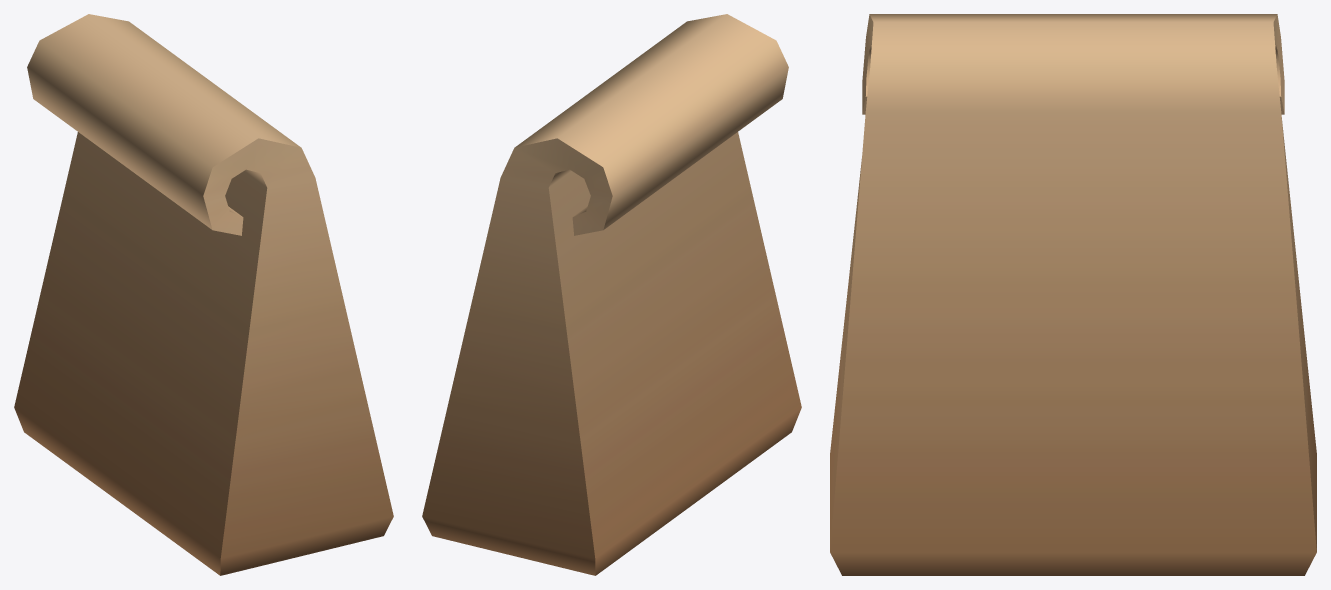
The model's file is BagFood_1_A.glb.
3 views of the same model, side by side, from view 1: azimuth 30°, elevation 25°; view 2: azimuth 150°, elevation 25°; view 3: azimuth 270°, elevation 25° (orthographic). The views are drawn at different scales.
Parts seen in each view (by area): view 1: BagFood_1_A; view 2: BagFood_1_A; view 3: BagFood_1_A.
Boxes of the visible parts, x1,y1,x2,y2 form: BagFood_1_A: (14,14,393,575); BagFood_1_A: (422,14,801,575); BagFood_1_A: (830,14,1316,575).
Size of the model in its own units: 0.1518 by 0.3513 by 0.3098.
1 material, 1 textured.
